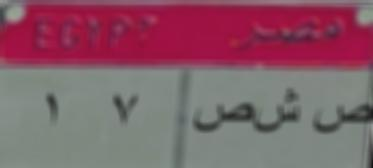1: (37, 86, 74, 128)
7: (104, 90, 146, 132)
saad: (191, 92, 256, 138), (311, 96, 373, 140)
sheen: (256, 84, 306, 140)
